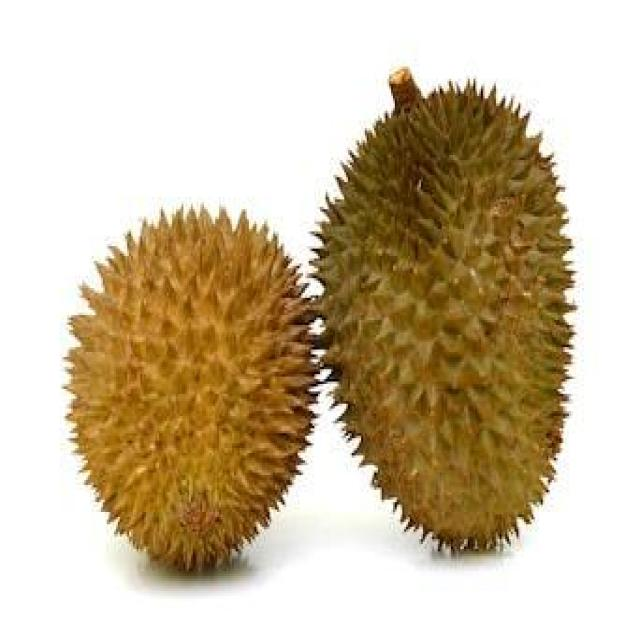mature: (315, 84, 572, 550), (68, 209, 315, 570)
